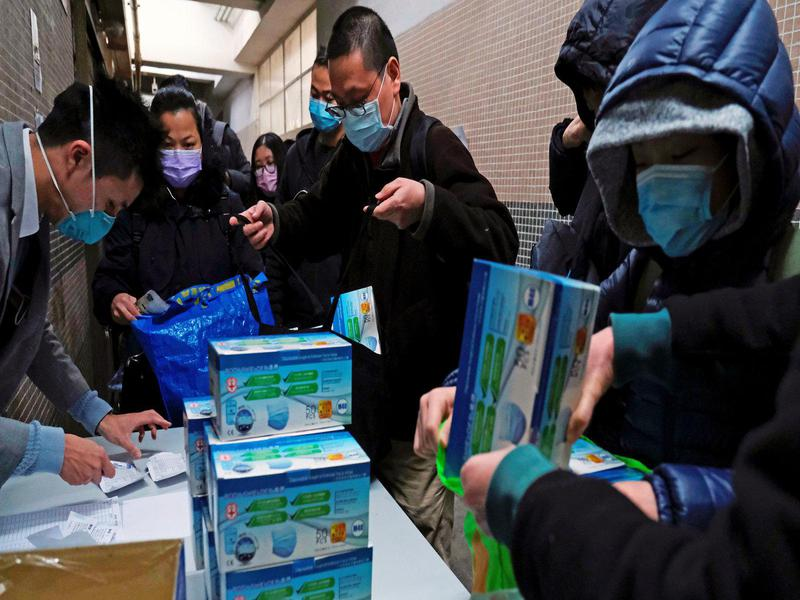with_mask: (32, 84, 165, 249), (632, 113, 735, 265), (327, 7, 405, 154), (148, 84, 206, 194), (306, 45, 351, 141), (248, 133, 287, 198)
